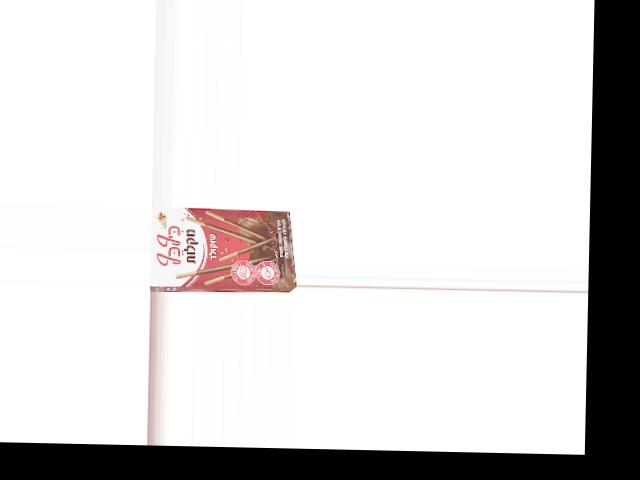chocolate: (150, 205, 288, 293)
